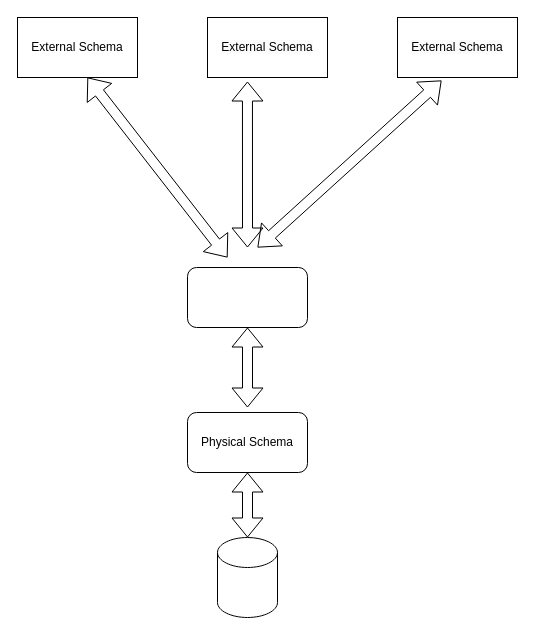
Image size: 535x635. Some labels were removed from this diagram. Each missing label, with the box of its shape:
Conceptual Schema: (186, 266, 308, 328)
database: (216, 536, 278, 618)
